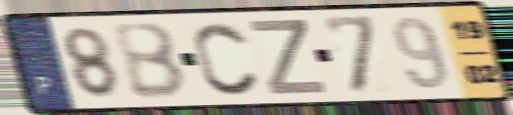7: (322, 13, 381, 97)
8: (57, 25, 123, 100)
9: (390, 14, 452, 93)
B: (108, 20, 191, 101)
C: (191, 19, 263, 98)
Z: (246, 18, 331, 97)
